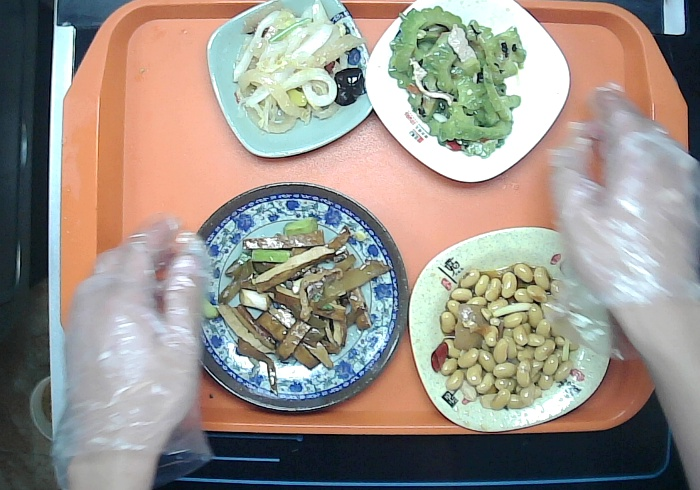NLDX-Bai_Se_Xiao_Fang_Die: (361, 1, 573, 186)
NLDX-Fu_Zi_Fang_Die: (407, 223, 613, 434)
NLDX-Qing_Hua_Xiao_Fang_Die: (204, 1, 377, 160)
NLDX-Qing_Hua_Yuan_Die: (177, 178, 413, 416)
